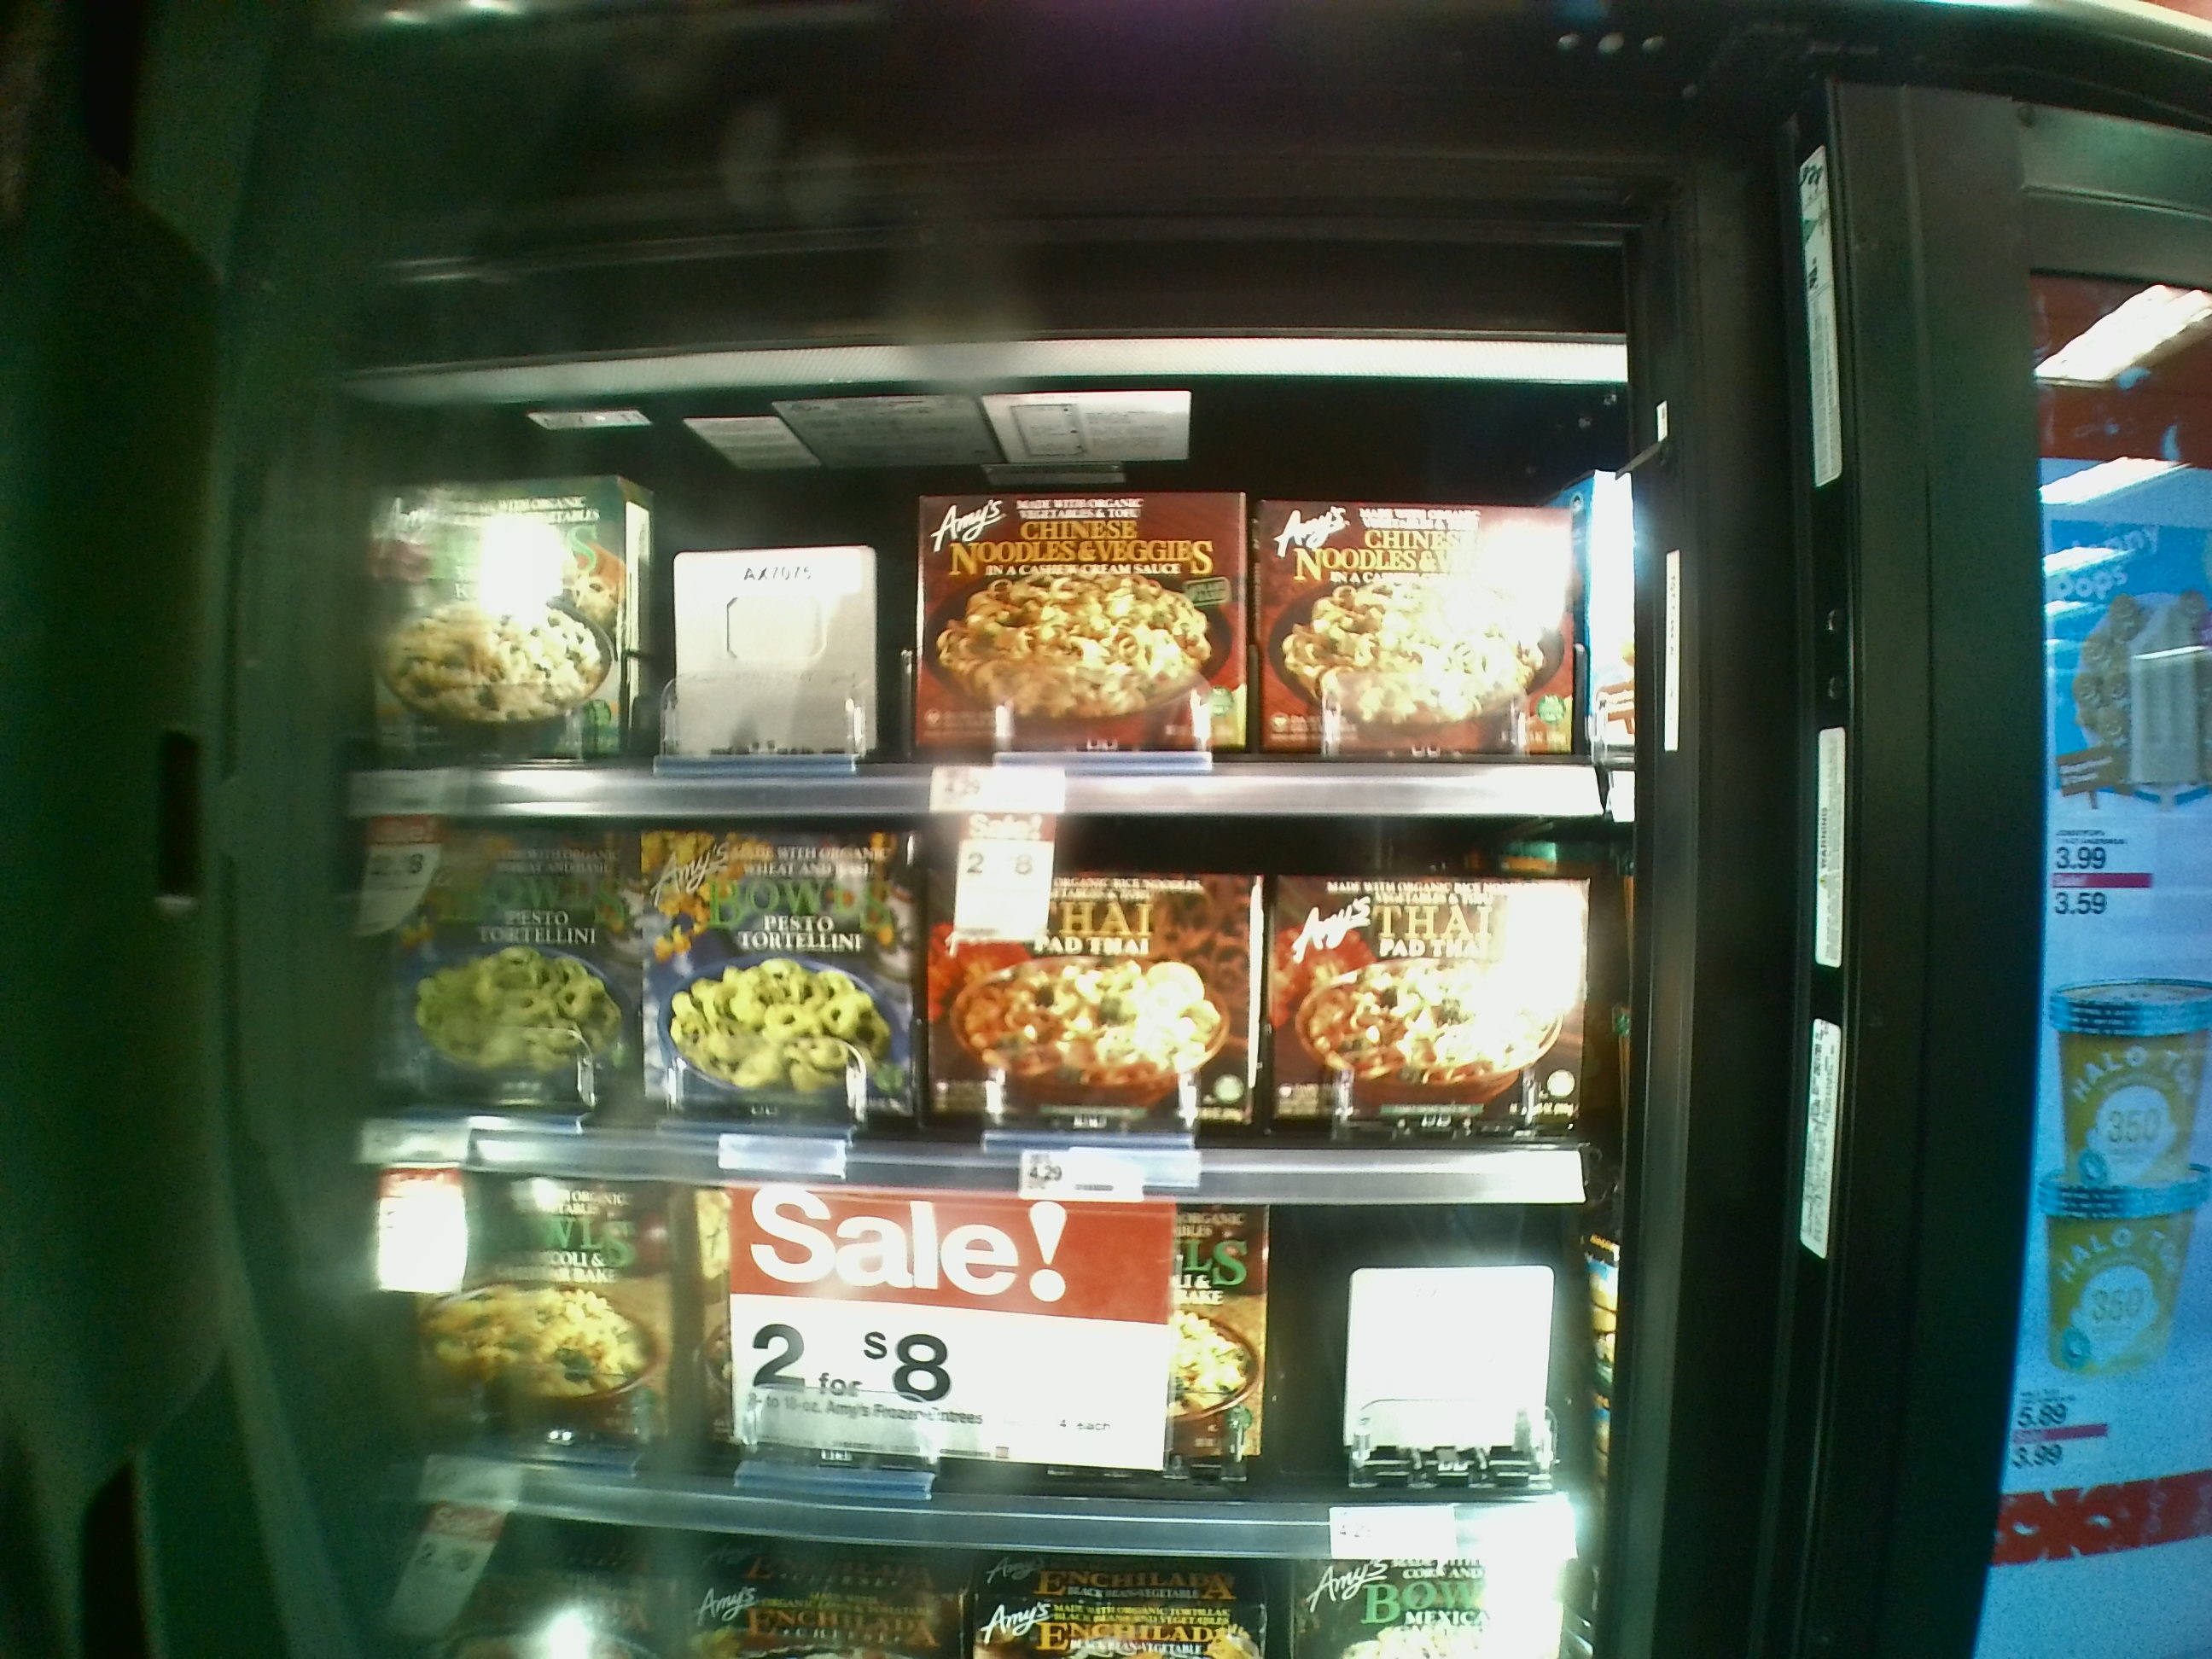shelf: (350, 399, 1630, 836), (380, 1162, 1583, 1570), (364, 824, 1597, 1185)
